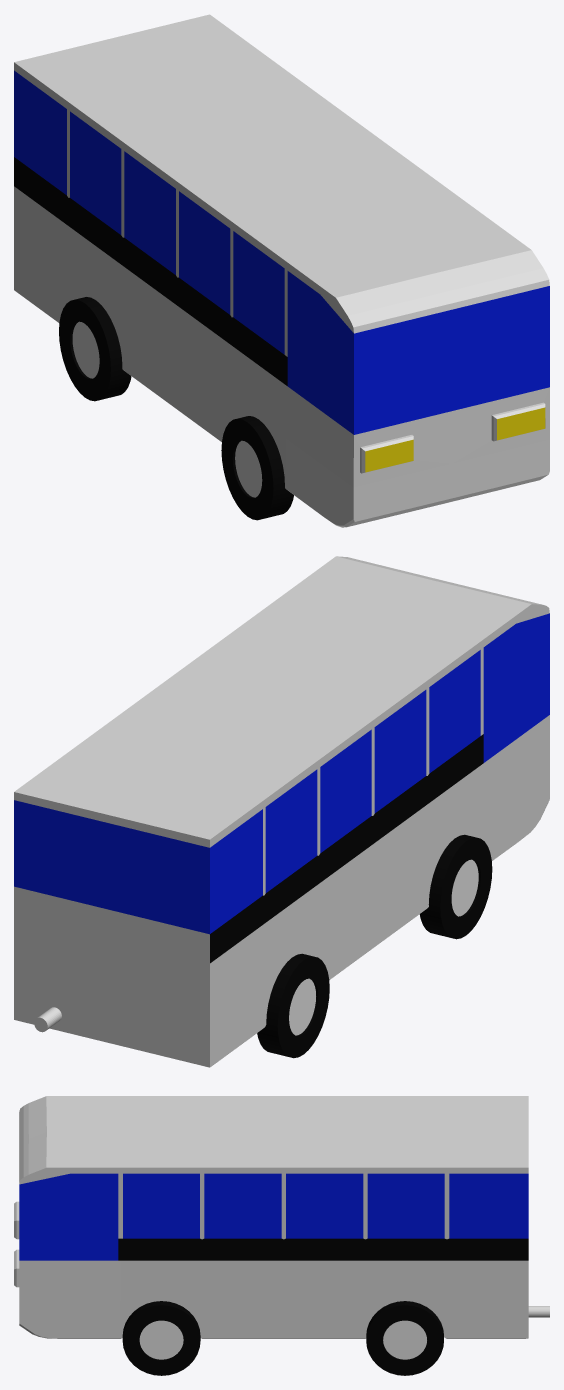
File: minibusbve.fbx
3 views of the same model, one above another, from view 1: azimuth 30°, elevation 25°; view 2: azimuth 150°, elevation 25°; view 3: azimuth 270°, elevation 25° (orthographic). The views are drawn at different scales.
Visible parts, largest first — view 1: Cylinder; view 2: Cylinder; view 3: Cylinder.
Part boxes in pixels (x1,y1,x2,y2): Cylinder: [14, 14, 549, 527]; Cylinder: [14, 556, 549, 1067]; Cylinder: [14, 1096, 549, 1375].
Bounding box in the file's own units: 223 × 266 × 633.
